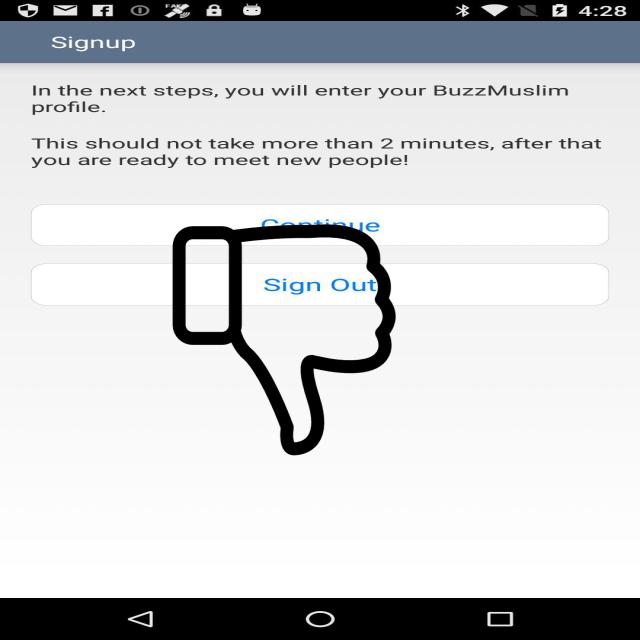obstruction: (169, 224, 399, 456)
